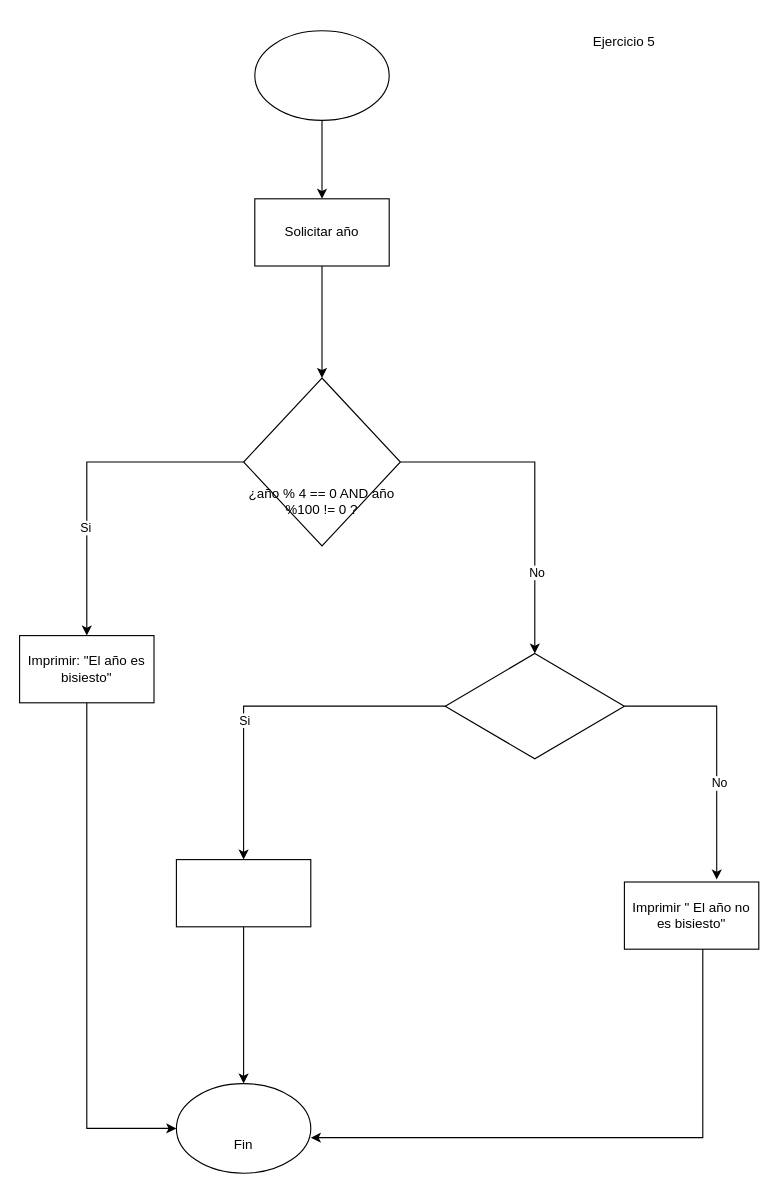
The diagram is 778 pixels wide and 1193 high, and some of its shapes have lost their labels. The centre of each missing label's shape, as x and y in pixels:
Imprimir: " El año es bisiesto": (243,892)
Inicio: (321,75)
¿año % 400 == 0?: (534,705)
